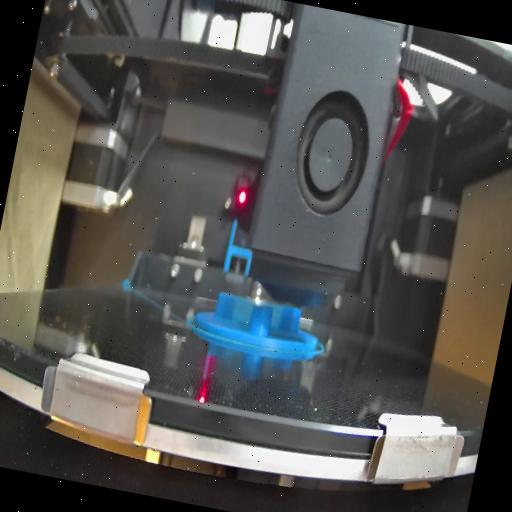stringing: (222, 294, 254, 330), (270, 305, 286, 336)
